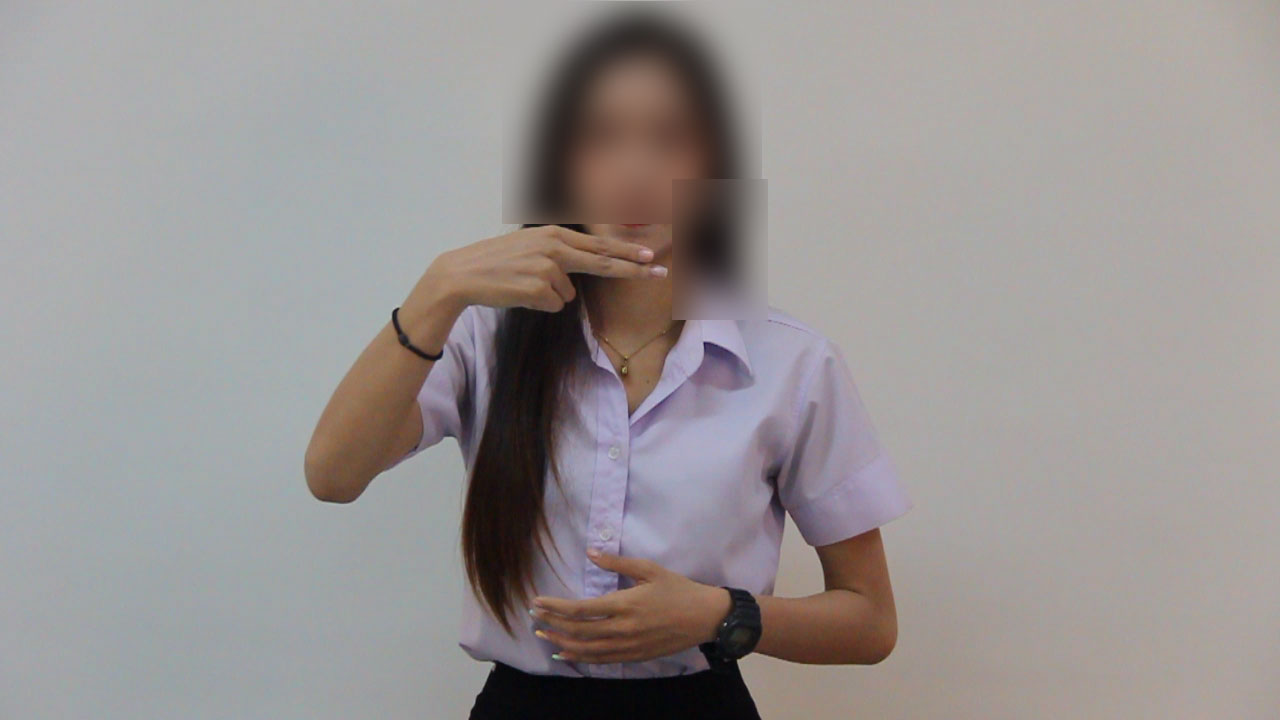hor: (418, 206, 680, 323)
